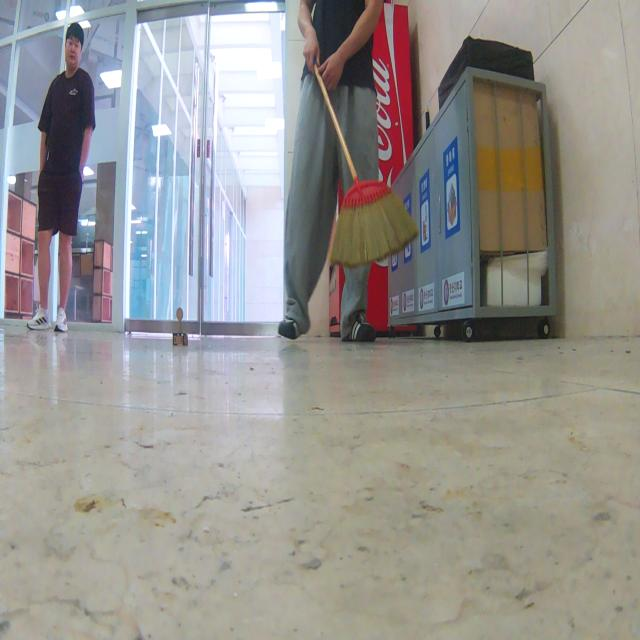target: (172, 308, 188, 346)
